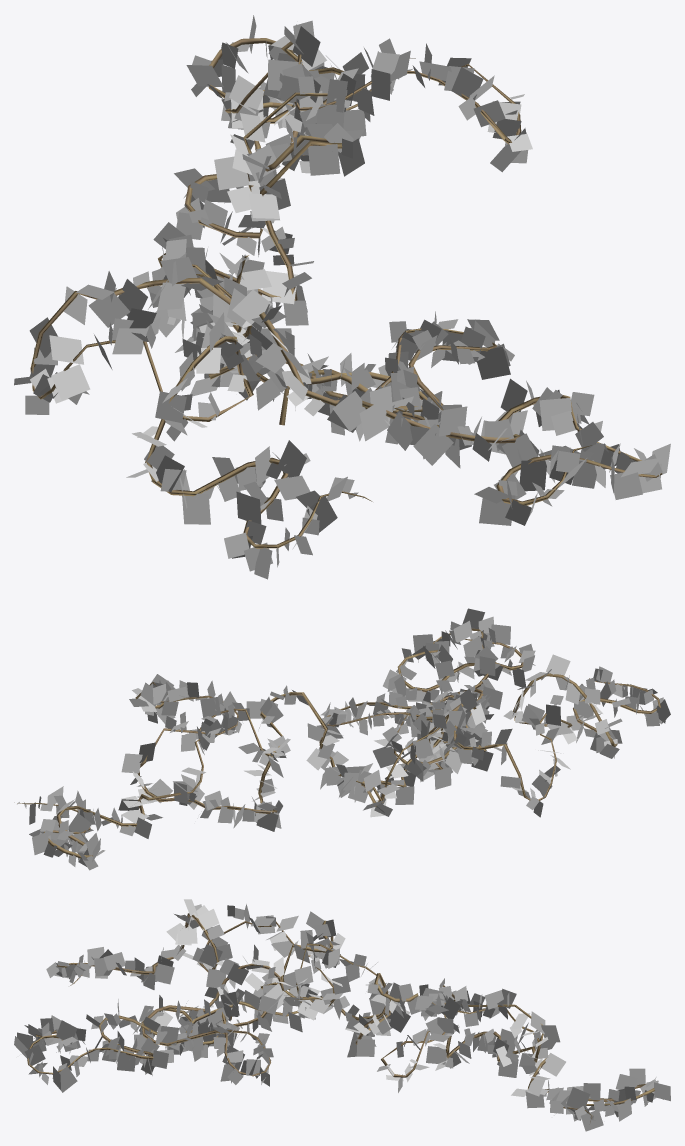
Rendered from ivy_09.fbx.
3 renders of one model, top to bottom at view 1: azimuth 30°, elevation 25°; view 2: azimuth 150°, elevation 25°; view 3: azimuth 270°, elevation 25°, orthographic. The views are drawn at different scales.
Parts seen in each view (by area): view 1: NewIvySnapshot_9; view 2: NewIvySnapshot_9; view 3: NewIvySnapshot_9.
Part boxes in pixels (x1,y1,x2,y2): NewIvySnapshot_9: (14,15,670,579); NewIvySnapshot_9: (14,608,670,870); NewIvySnapshot_9: (14,899,670,1131).
Bounding box in the file's own units: 114 × 33.47 × 173.
